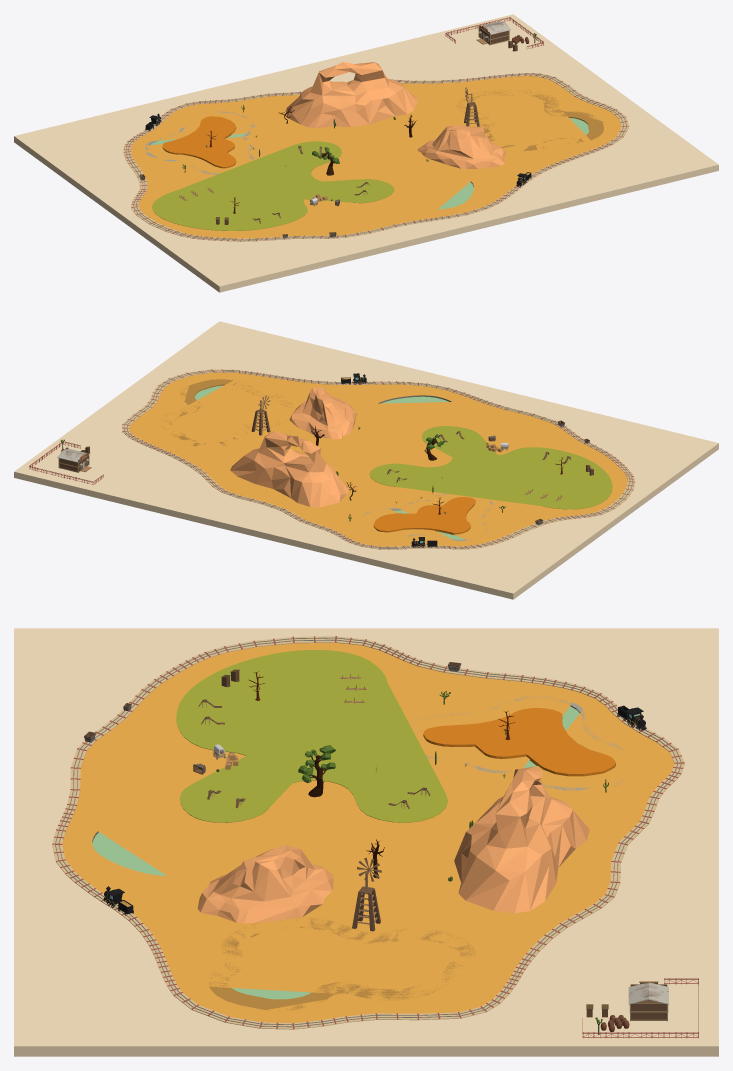
File: D8_park_1.fbx
3 views of the same model, one above another, from view 1: azimuth 30°, elevation 25°; view 2: azimuth 150°, elevation 25°; view 3: azimuth 270°, elevation 25° (orthographic). The views are drawn at different scales.
Parts seen in each view (by area): view 1: Plane.1935, Desert_plant_006.010; view 2: Plane.1935, Desert_plant_006.010; view 3: Plane.1935, Desert_plant_006.010.
Boxes of the visible parts, x1=… form: Plane.1935: x1=14, y1=14, x2=718, y2=292; Desert_plant_006.010: x1=182, y1=33, x2=536, y2=213; Plane.1935: x1=14, y1=321, x2=718, y2=599; Desert_plant_006.010: x1=60, y1=426, x2=565, y2=521; Plane.1935: x1=14, y1=628, x2=718, y2=1056; Desert_plant_006.010: x1=216, y1=671, x2=608, y2=1034.
Size of the model in its own units: 29250 by 3183 by 20850.
19 materials, 14 textured.
